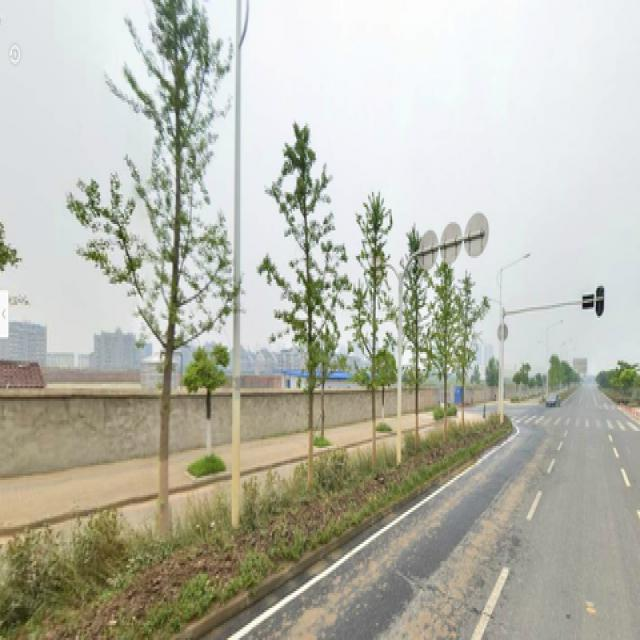gink: (265, 122, 352, 490)
